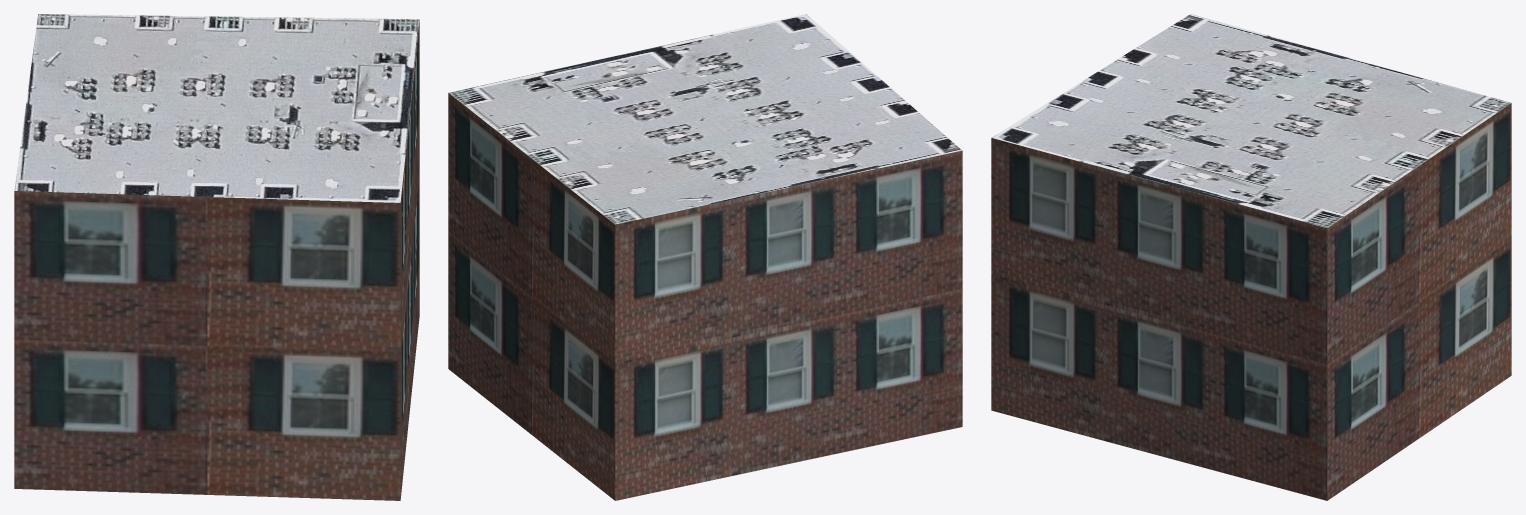
The model's file is ResTex__3823.fbx.
3 views of the same model, side by side, from view 1: azimuth 30°, elevation 25°; view 2: azimuth 150°, elevation 25°; view 3: azimuth 270°, elevation 25° (orthographic). The views are drawn at different scales.
Visible parts, largest first — view 1: CityEngineMaterial_14_m, CityEngineMaterial_4_m; view 2: CityEngineMaterial_14_m, CityEngineMaterial_4_m; view 3: CityEngineMaterial_14_m, CityEngineMaterial_4_m.
Part boxes in pixels (box(x1,y1,x2,y2)): CityEngineMaterial_14_m: box(14, 20, 419, 500); CityEngineMaterial_4_m: box(14, 14, 419, 202); CityEngineMaterial_14_m: box(448, 93, 962, 500); CityEngineMaterial_4_m: box(449, 14, 961, 224); CityEngineMaterial_14_m: box(991, 103, 1511, 500); CityEngineMaterial_4_m: box(991, 14, 1510, 227).
Size of the model in its own units: 10.11 by 6 by 10.38.
2 materials, 2 textured.
